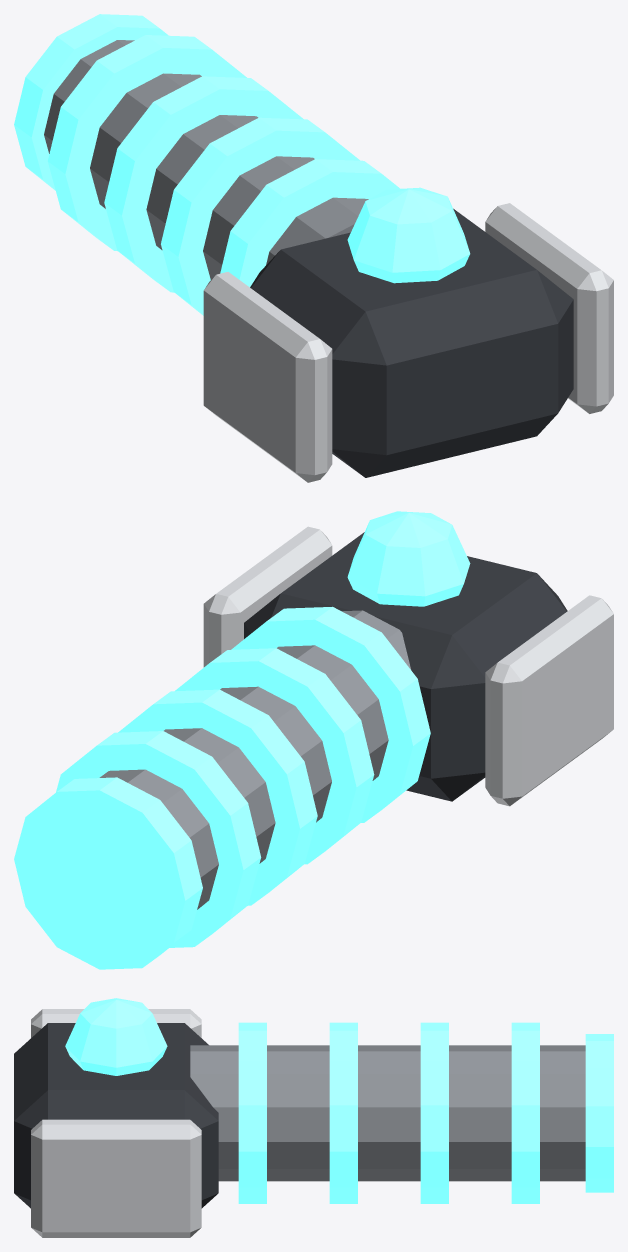
Rendered from positron_cannon.glb.
3 renders of one model, top to bottom at view 1: azimuth 30°, elevation 25°; view 2: azimuth 150°, elevation 25°; view 3: azimuth 270°, elevation 25°, orthographic. The views are drawn at different scales.
Visible parts, largest first — view 1: positron_cannon; view 2: positron_cannon; view 3: positron_cannon.
Part boxes in pixels (x1,y1,x2,y2): positron_cannon: (14, 14, 613, 482); positron_cannon: (14, 511, 613, 969); positron_cannon: (14, 998, 613, 1237).
Size of the model in its own units: 0.52 by 0.38 by 1.05.
